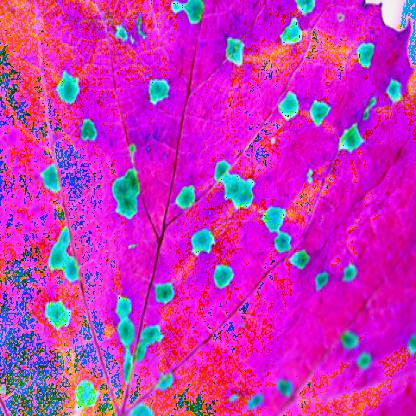grape leaf black rot: (2, 3, 411, 415)
